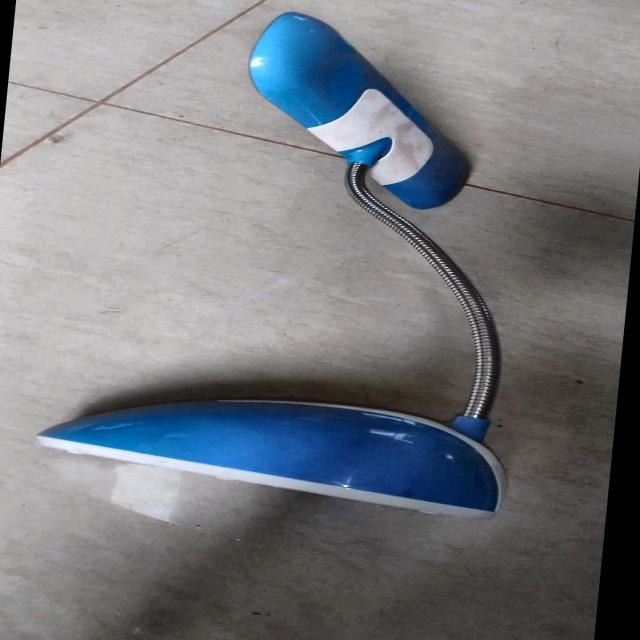Lantern: (26, 2, 577, 553)
